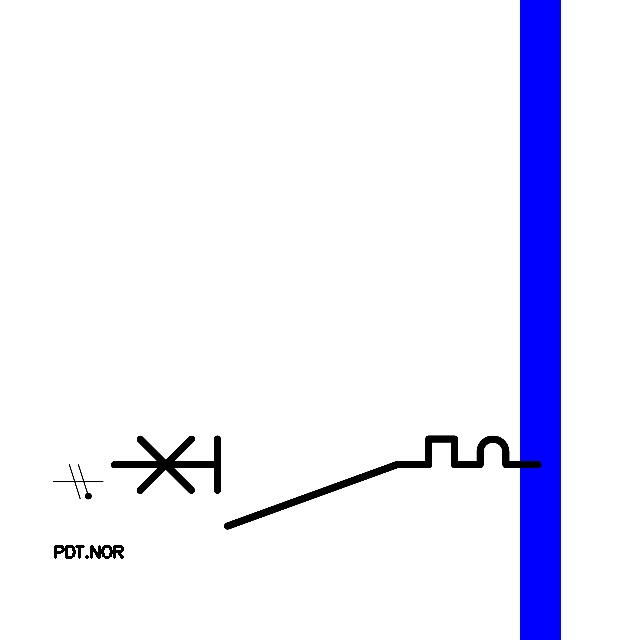interruptor_termomagnetico: (103, 428, 548, 537)
